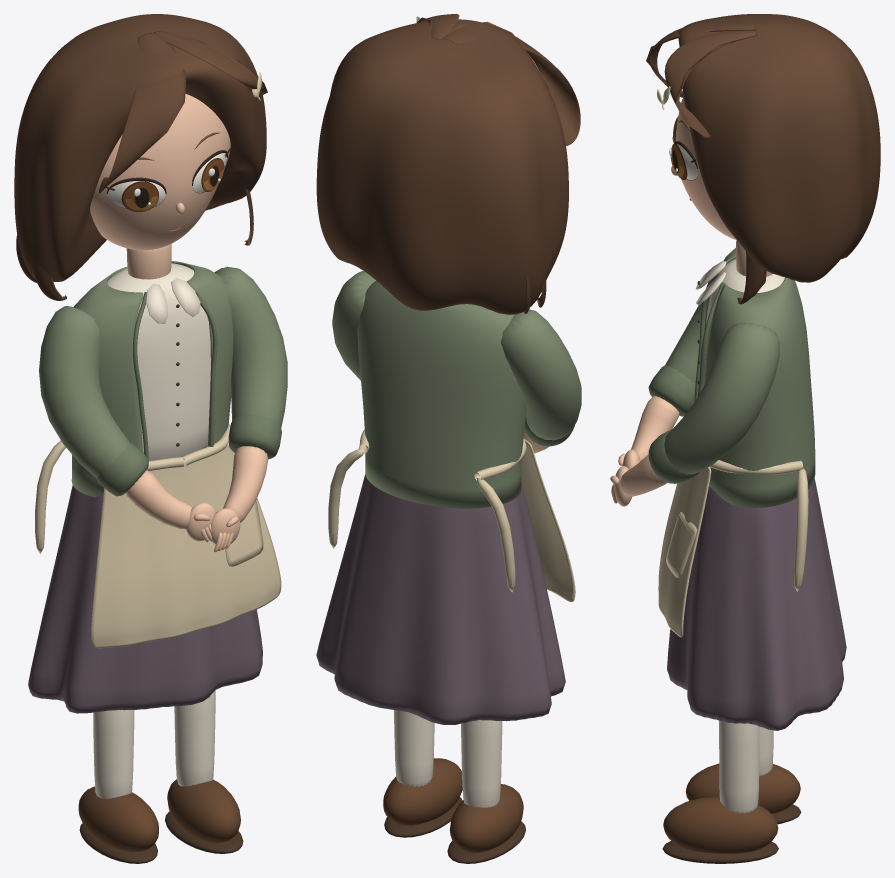
The model's file is misaki-model.glb.
3 renders of one model, left to right at view 1: azimuth 30°, elevation 25°; view 2: azimuth 150°, elevation 25°; view 3: azimuth 270°, elevation 25°, orthographic.
Parts seen in each view (by area): view 1: target-proof/clothes, target-proof/hair, target-proof/skin, target-proof/shoes, target-proof/eyes; view 2: target-proof/clothes, target-proof/hair, target-proof/shoes; view 3: target-proof/clothes, target-proof/hair, target-proof/shoes, target-proof/skin, target-proof/eyes.
Part boxes in pixels (x1,y1,x2,y2): target-proof/clothes: [28, 261, 287, 798]; target-proof/hair: [14, 14, 267, 300]; target-proof/skin: [90, 94, 268, 552]; target-proof/shoes: [78, 779, 243, 863]; target-proof/eyes: [106, 132, 232, 231]; target-proof/clothes: [316, 271, 581, 807]; target-proof/hair: [316, 14, 580, 314]; target-proof/shoes: [383, 758, 525, 863]; target-proof/clothes: [648, 248, 846, 813]; target-proof/hair: [646, 14, 880, 304]; target-proof/shoes: [662, 763, 801, 863]; target-proof/skin: [610, 97, 772, 506]; target-proof/eyes: [669, 99, 699, 200].
Size of the model in its own units: 0.4758 by 1.55 by 0.4688.
